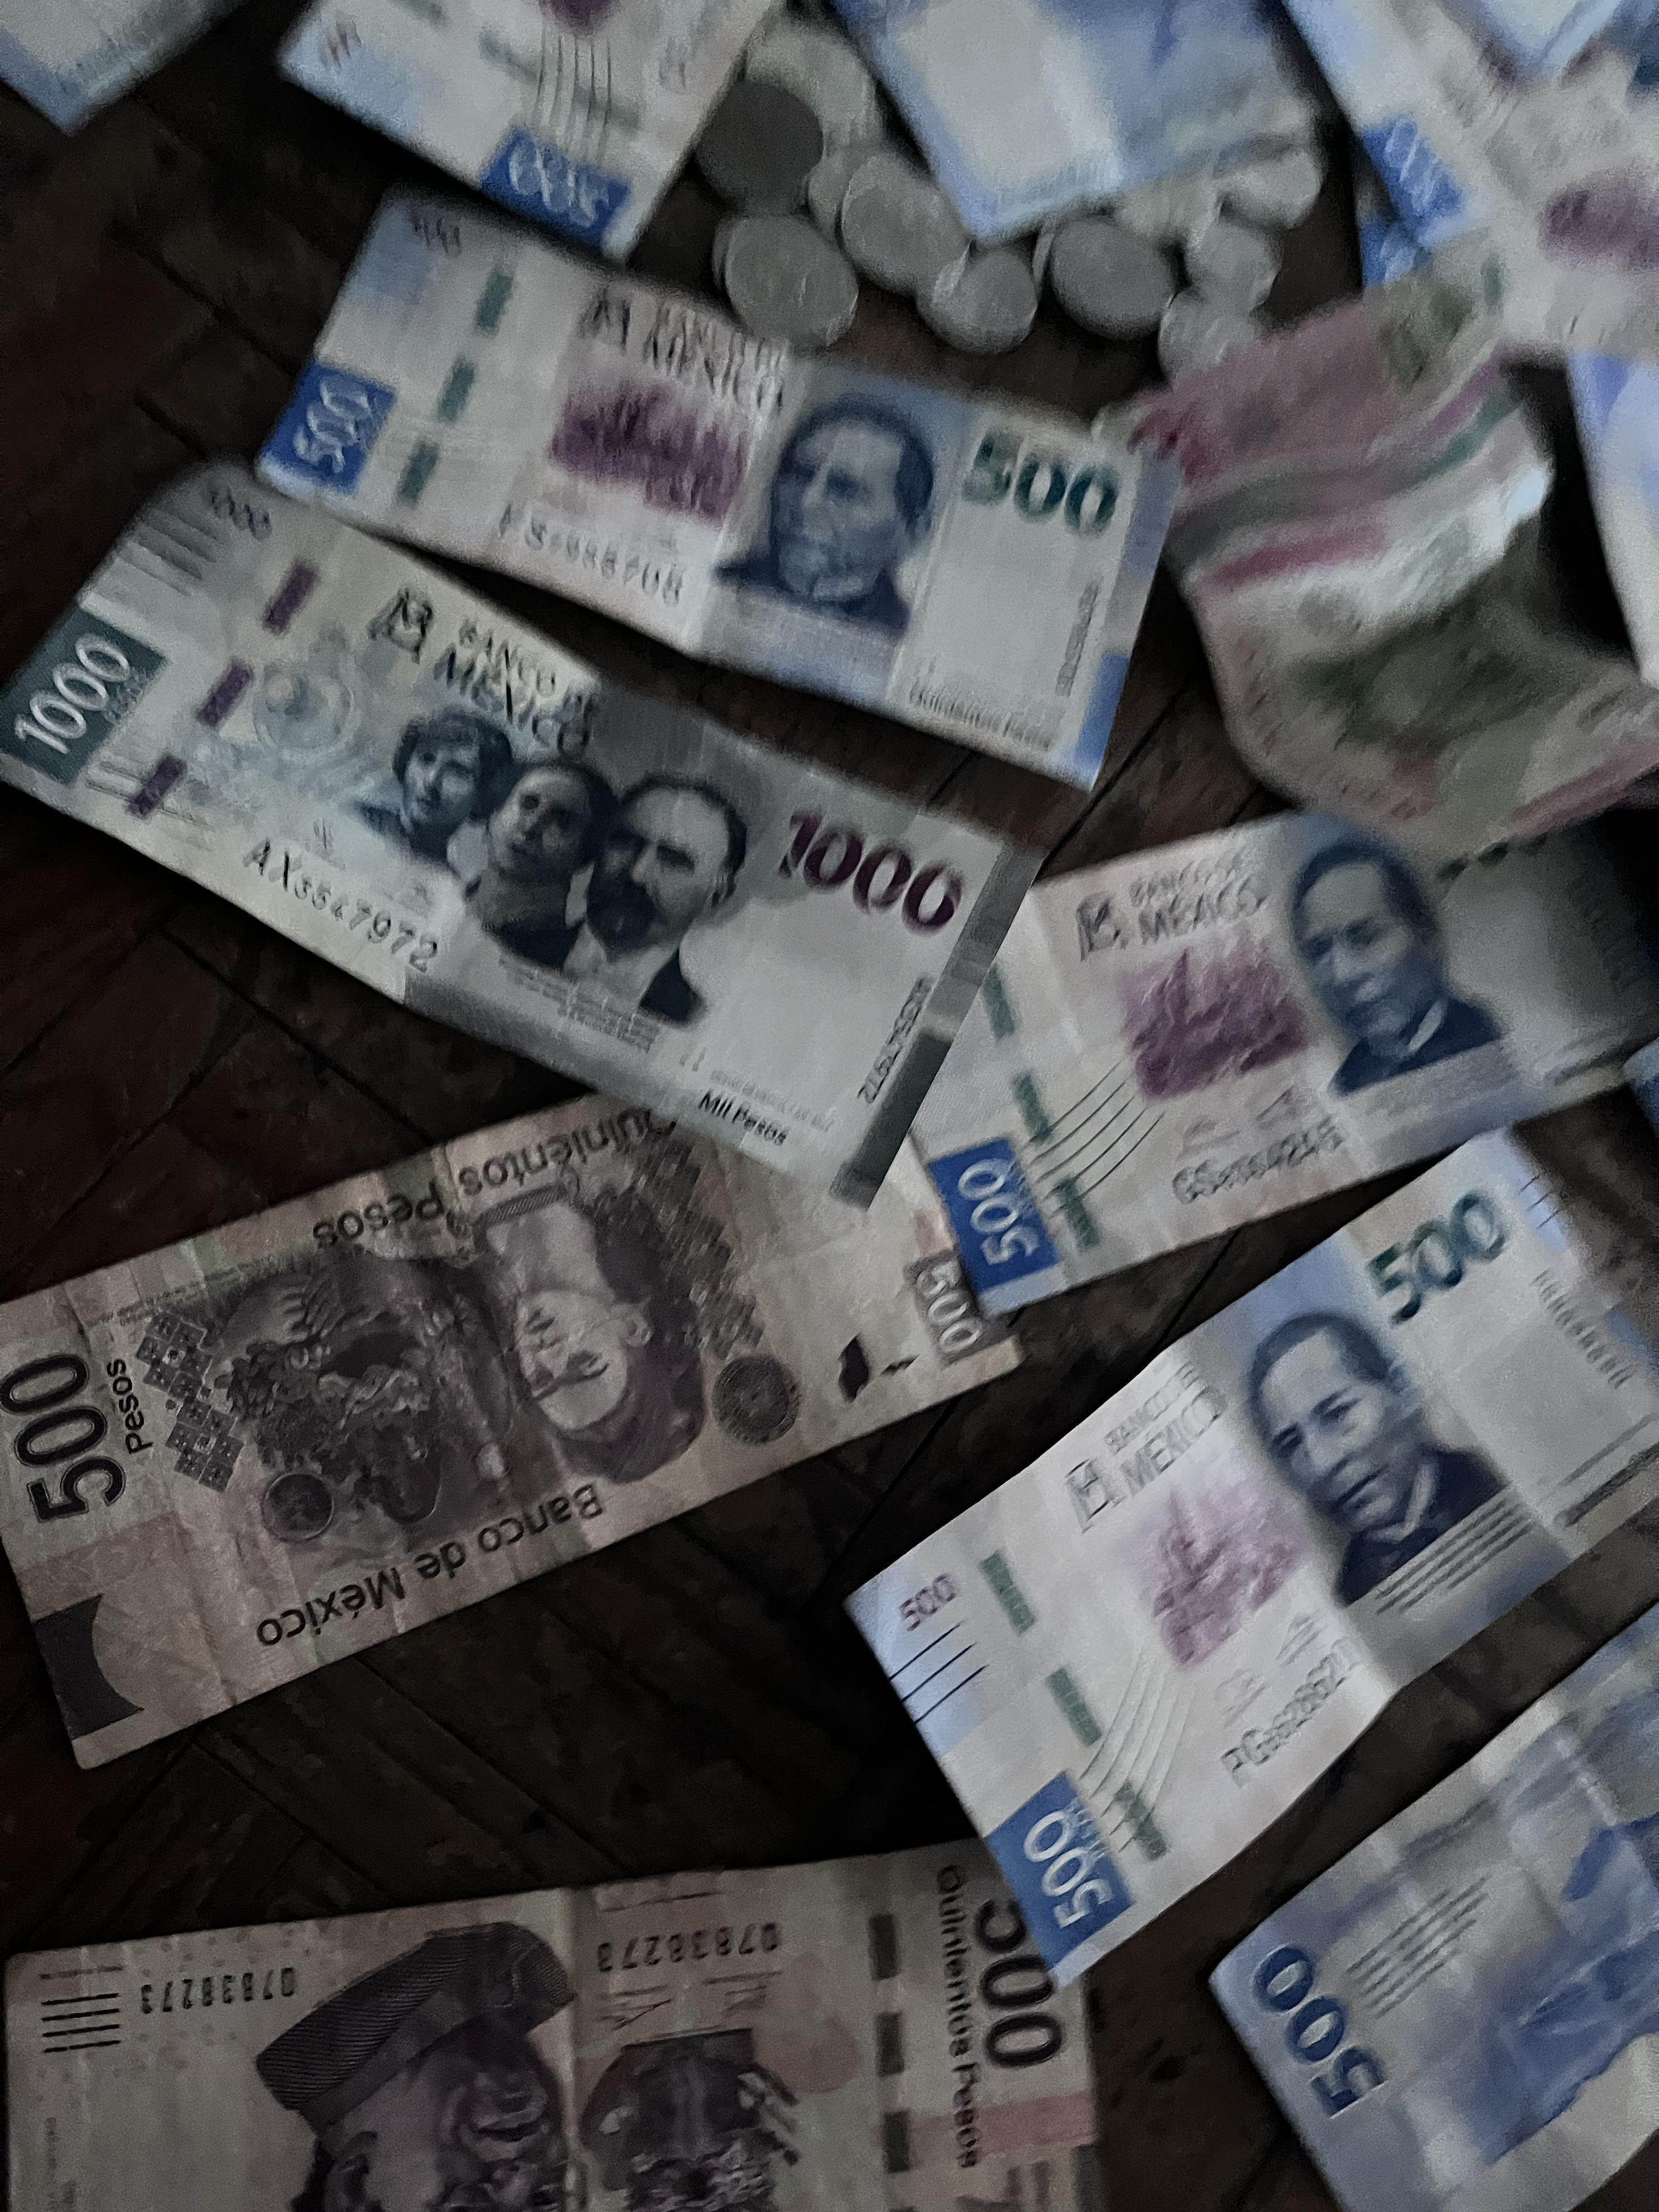1000: (3, 430, 1025, 1223)
20: (1082, 242, 1659, 864)
500: (0, 1024, 990, 1777), (3, 1904, 1108, 2212)
500 nuevo: (845, 1113, 1659, 1926), (267, 158, 1192, 833), (878, 751, 1659, 1313), (1195, 1590, 1659, 2205)
